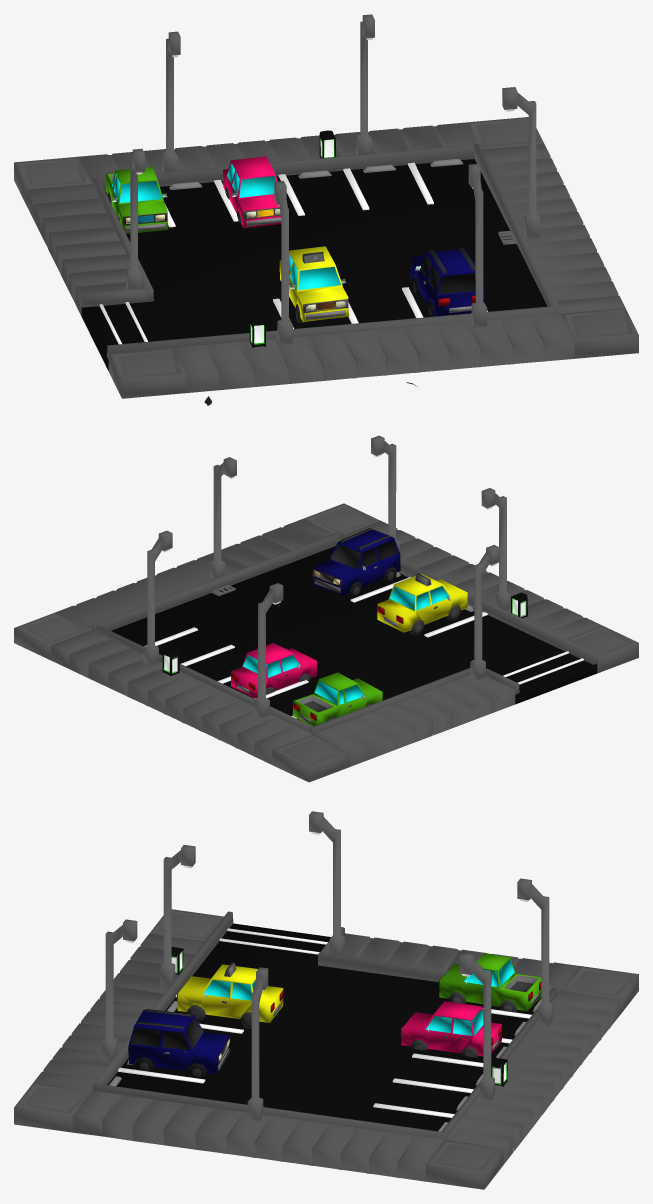
File: carpark.glb
The picture shows the model from 3 angles, top to bottom: view 1: azimuth 30°, elevation 25°; view 2: azimuth 150°, elevation 25°; view 3: azimuth 270°, elevation 25°; orthographic projection. The views are drawn at different scales.
Visible parts, largest first — view 1: car park; view 2: car park; view 3: car park.
Boxes of the visible parts, x1,y1,x2,y2 form: car park: (14, 14, 638, 405); car park: (14, 435, 638, 782); car park: (14, 811, 638, 1189).
Bounding box in the file's own units: 255 × 76.9 × 255.
5 materials, 5 textured.
